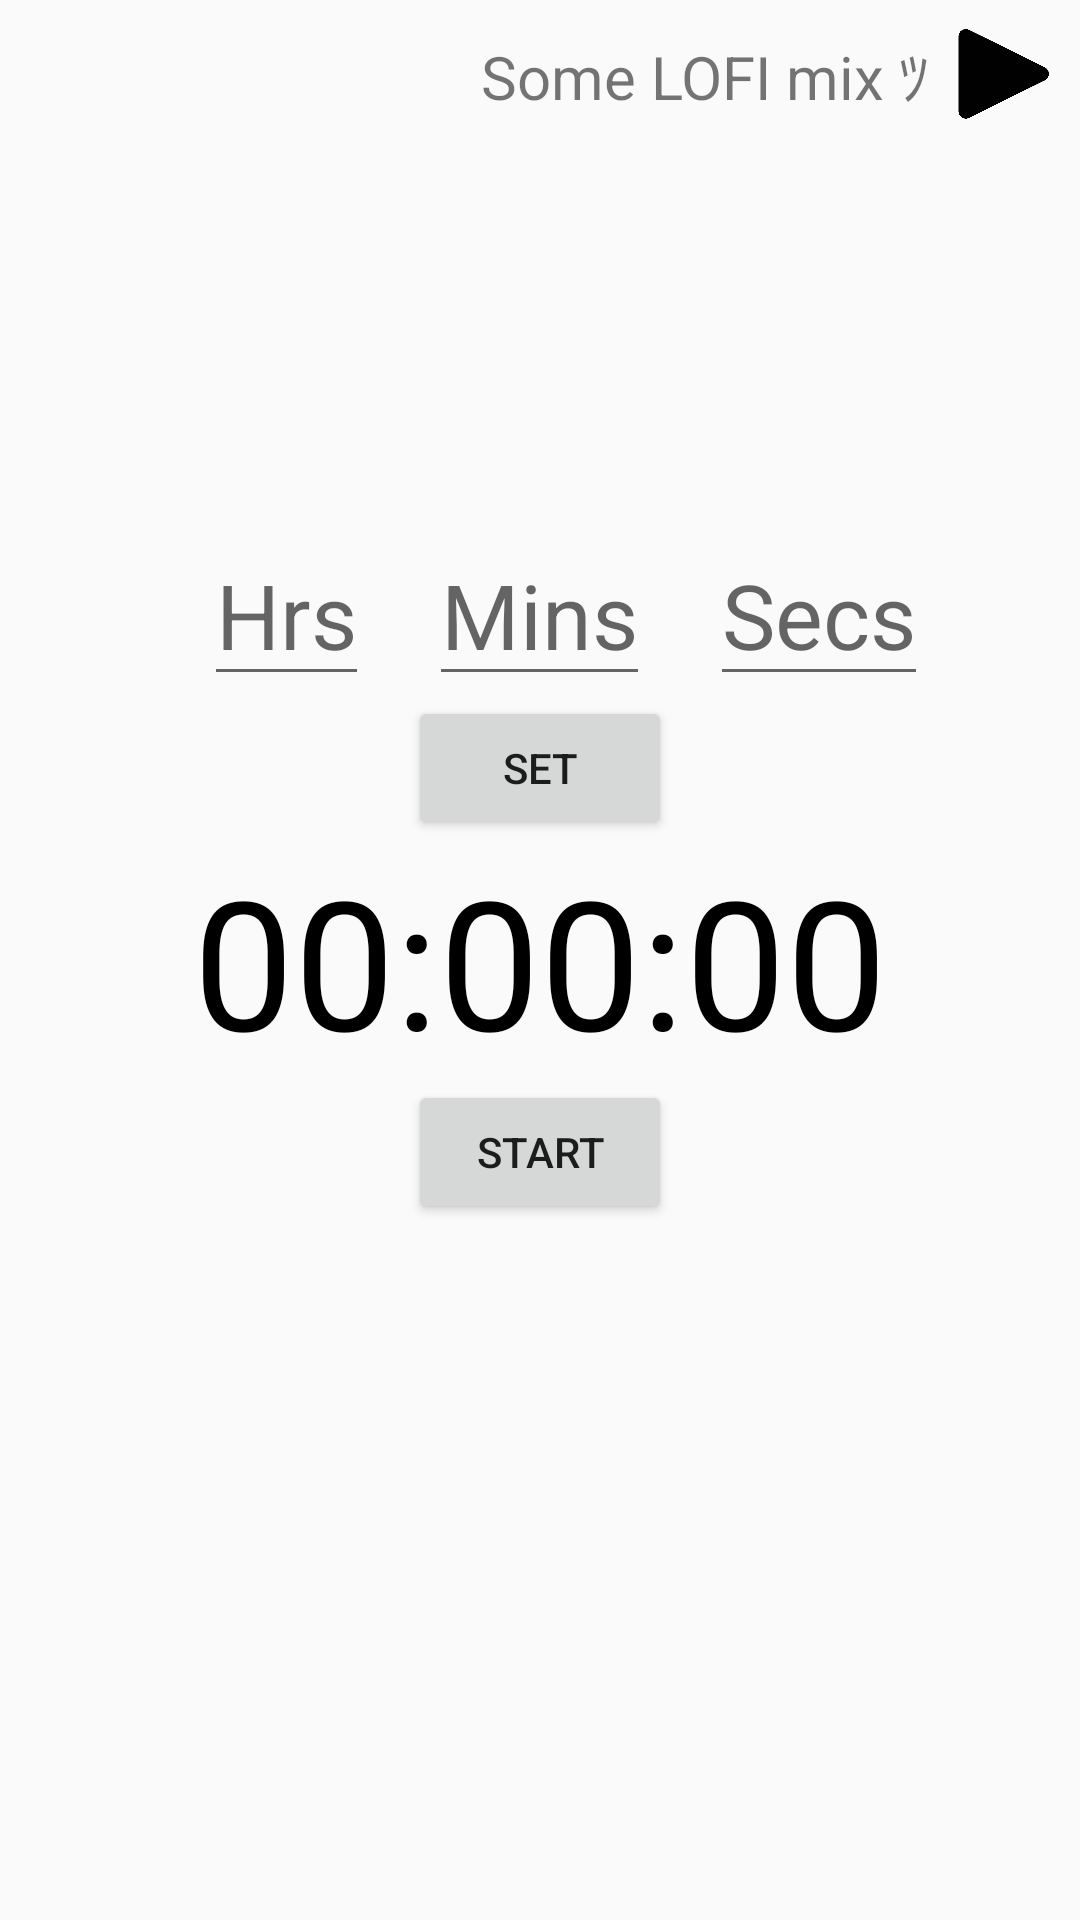

Locate icon controls on the screen. Image size 1080 x 1920, boxes as {"left": x1, "top": y1, "right": x2, "bottom": y2}.
playbtn: {"left": 958, "top": 29, "right": 1049, "bottom": 119}
